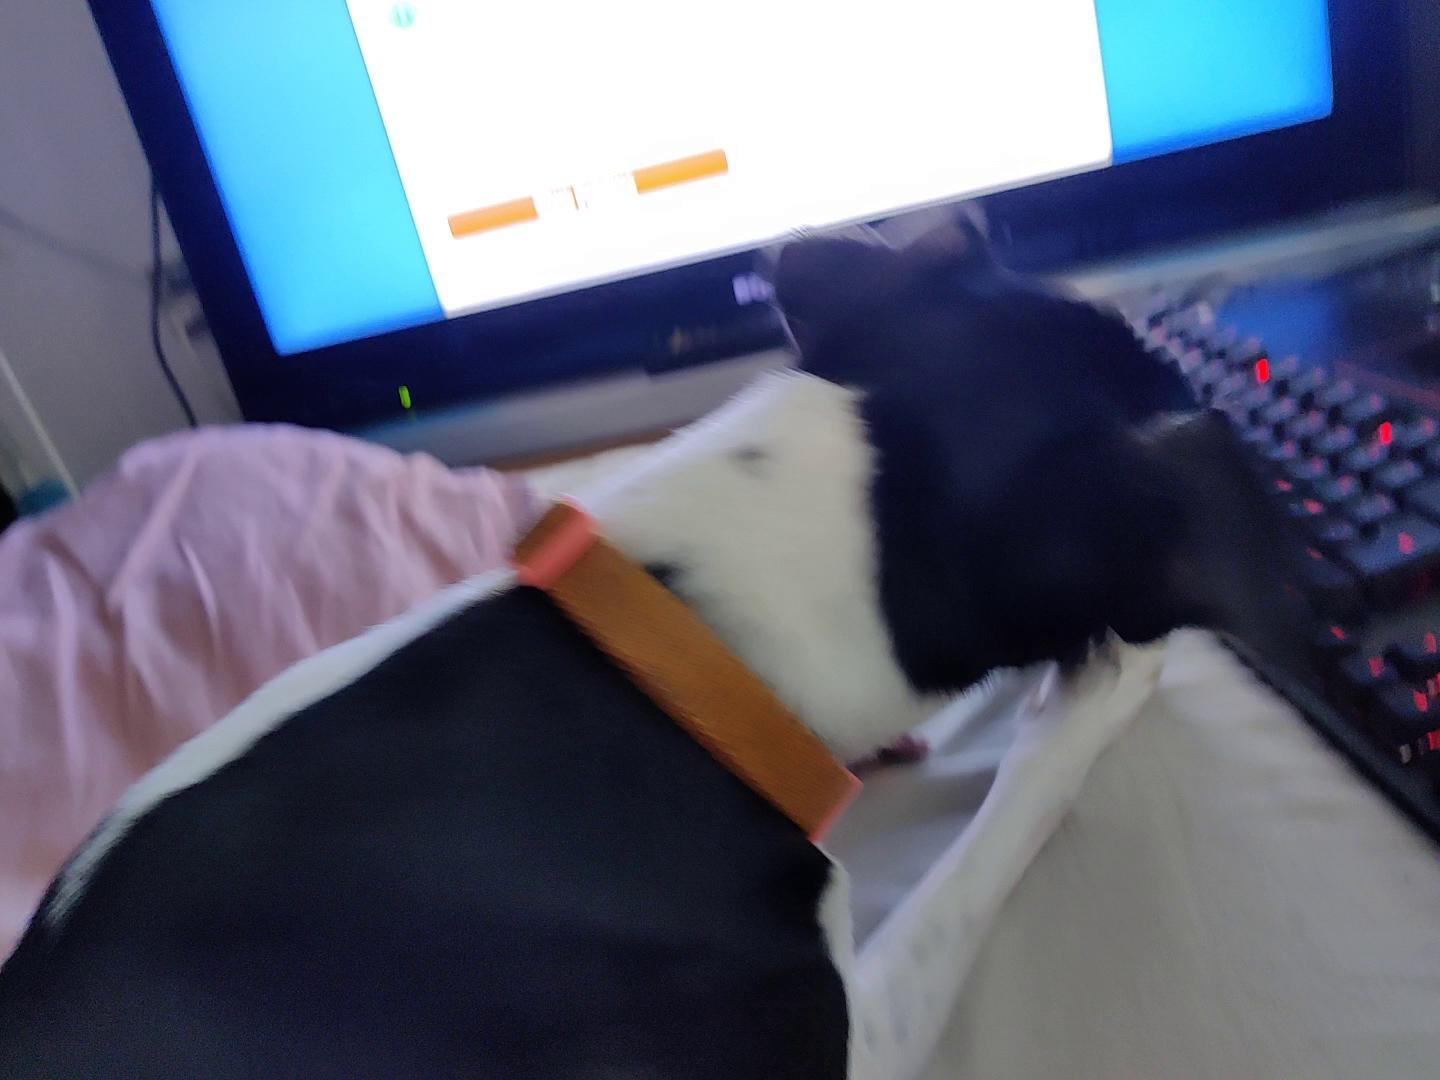Dog: (0, 183, 1335, 1079)
